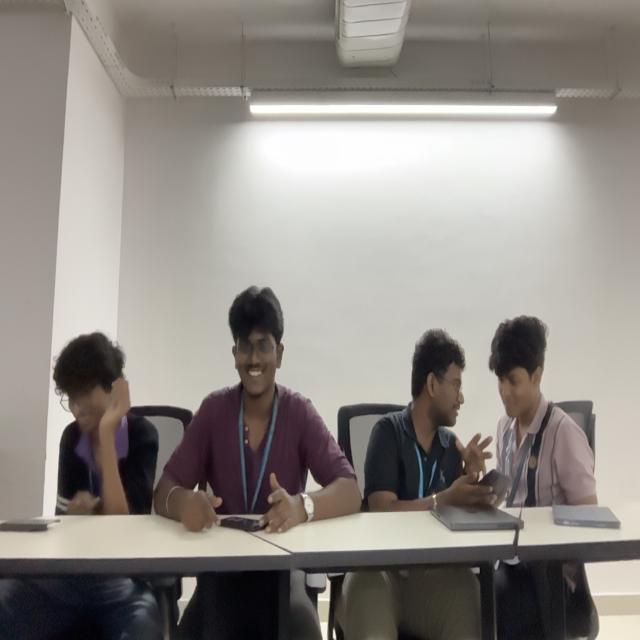Isolated: (154, 285, 361, 535), (48, 331, 150, 518)
socializing: (364, 315, 600, 512)
